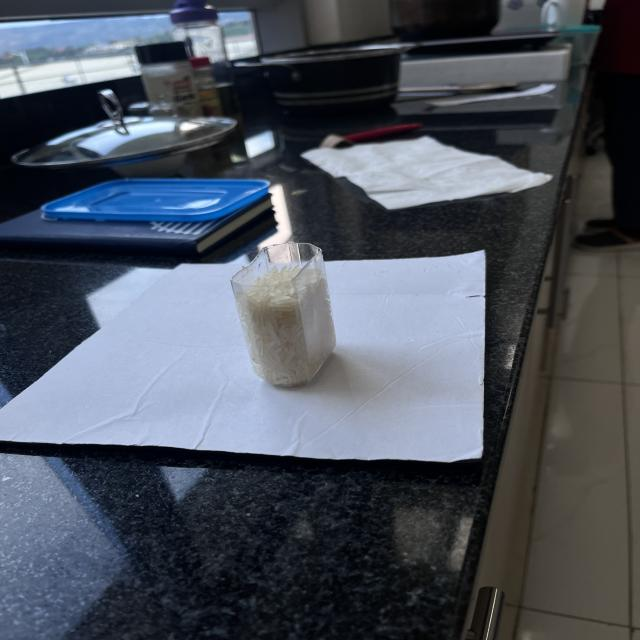raw_rice: (243, 259, 334, 390)
